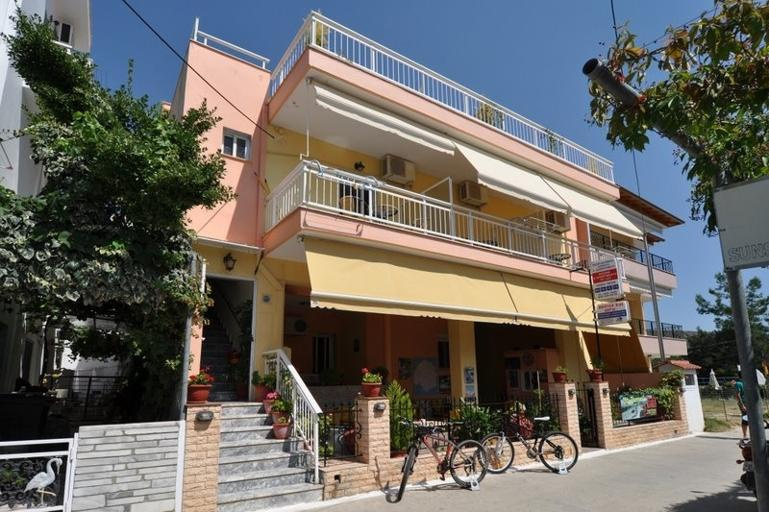non-vehicle: (396, 414, 490, 501), (476, 405, 578, 474)
